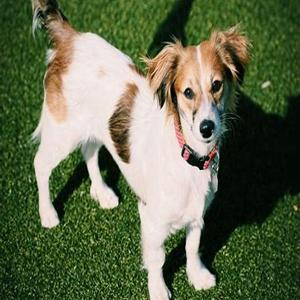dog: (59, 33, 222, 283)
